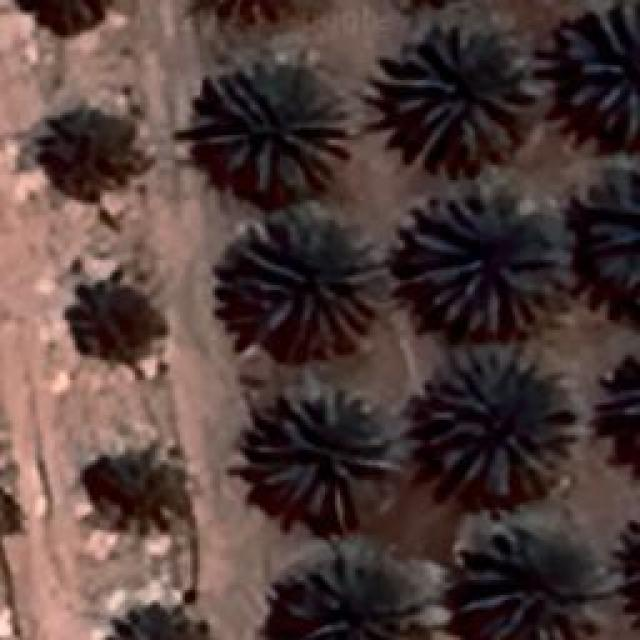PalmTree: (114, 47, 350, 592), (395, 188, 570, 340), (230, 208, 385, 358), (422, 350, 576, 495), (378, 25, 532, 165), (248, 388, 390, 530), (198, 70, 352, 190), (460, 520, 610, 638), (41, 95, 154, 213), (44, 272, 166, 370), (562, 2, 636, 140), (78, 444, 186, 536), (584, 160, 638, 300), (107, 597, 204, 640), (612, 338, 640, 476), (185, 0, 316, 27), (629, 500, 640, 627)
